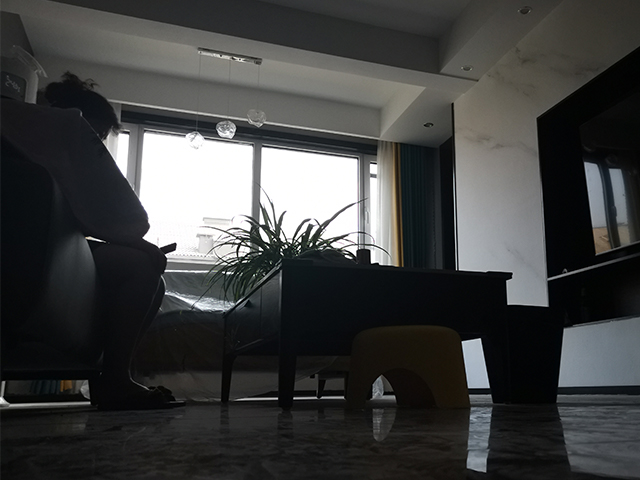sofa: (1, 112, 223, 408)
stool: (342, 323, 472, 413)
table: (219, 255, 514, 411)
trashcan: (480, 304, 567, 406)
